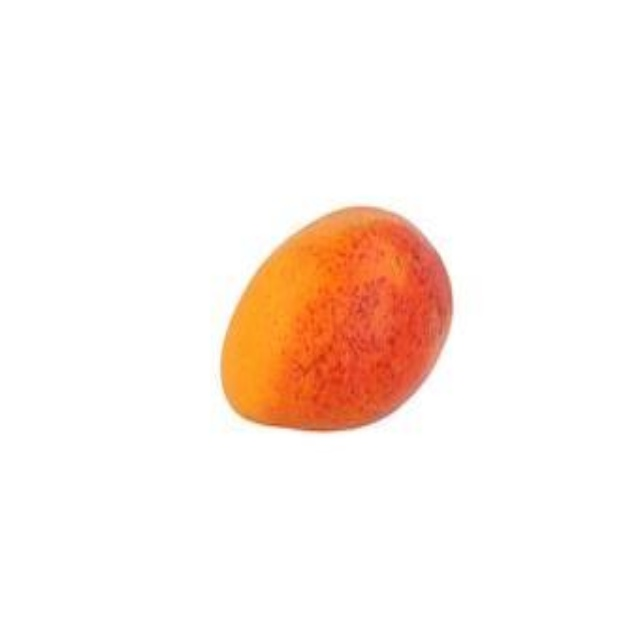mango: (223, 209, 451, 427)
